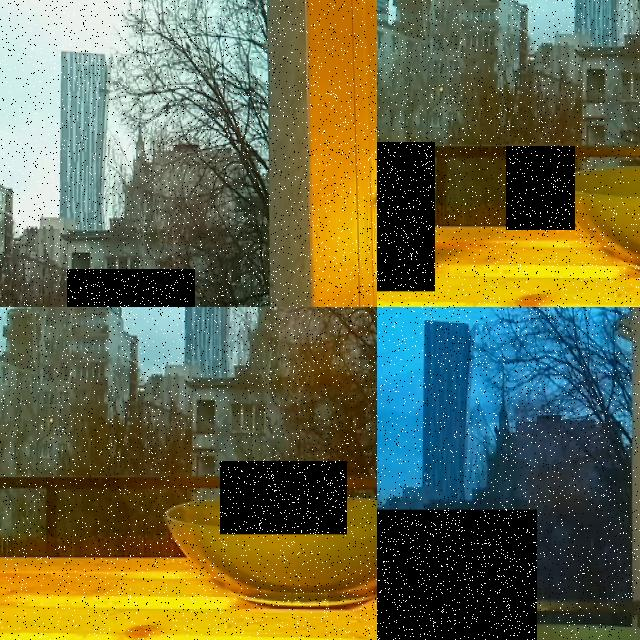Bogatka: (377, 509, 537, 640), (220, 461, 347, 534), (377, 141, 435, 291)
Modraszka: (506, 146, 575, 230)
Wrobel: (67, 269, 195, 307)
